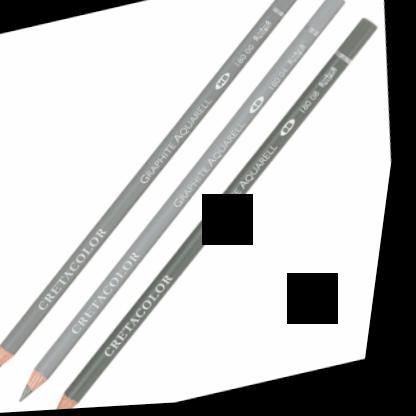pencil: (23, 0, 351, 407), (62, 18, 382, 411), (0, 0, 299, 376)
